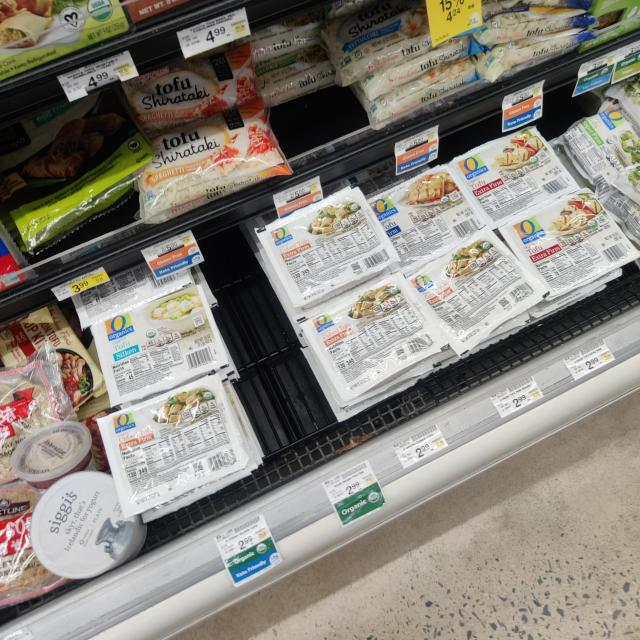Tofu: (74, 406, 268, 520), (116, 105, 291, 230), (284, 284, 448, 394), (73, 301, 249, 401), (489, 186, 635, 300), (248, 183, 380, 303), (404, 250, 553, 341), (370, 160, 484, 268), (447, 132, 573, 216)
